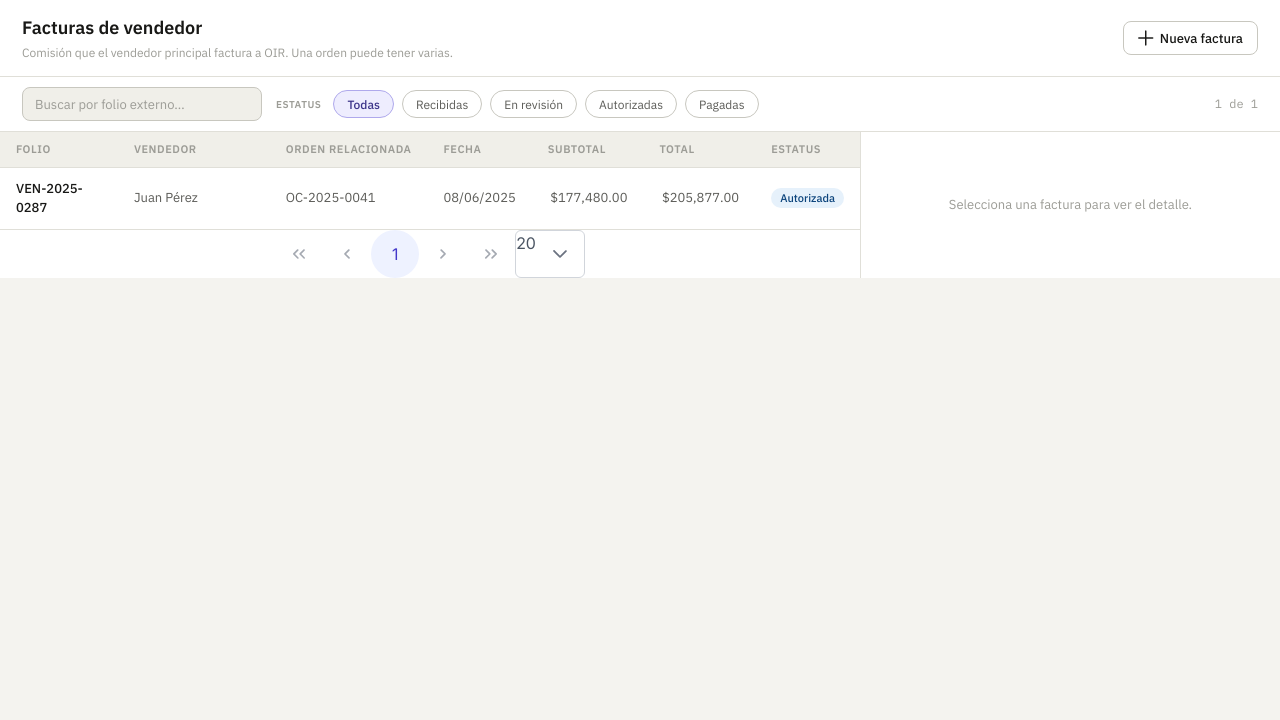
Scenario: FacturasVendedorPage — paridad con Facturas de agencia › muestra las tarjetas Subtotal/IVA/Total
The width and height of the screenshot is (1280, 720).
Step 1. Click the text "VEN-2025-0287" → (59, 198), box left=0, top=167, right=118, bottom=229
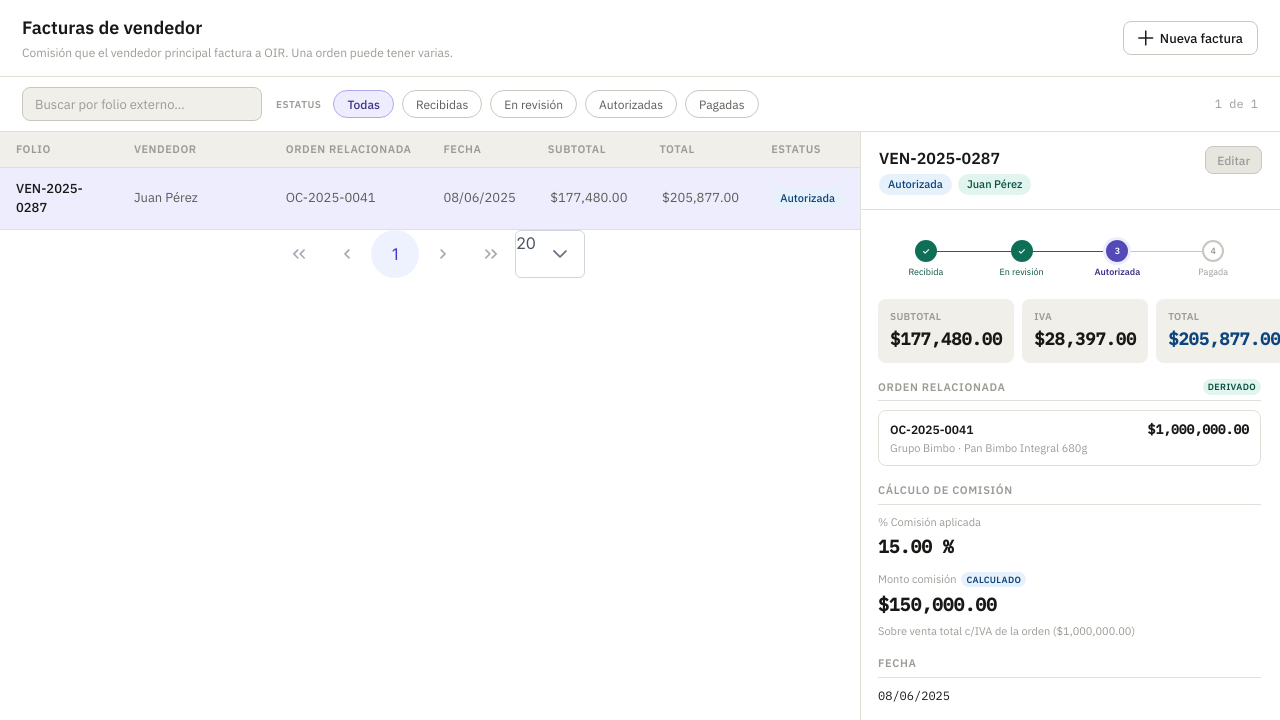
Expected: the text "Cálculo de comisión" is shown, left=878, top=482, right=1261, bottom=505
Expected: the text "Subtotal" is shown, left=890, top=310, right=941, bottom=323
Expected: the text "$177,480.00" is shown, left=890, top=327, right=1002, bottom=353
